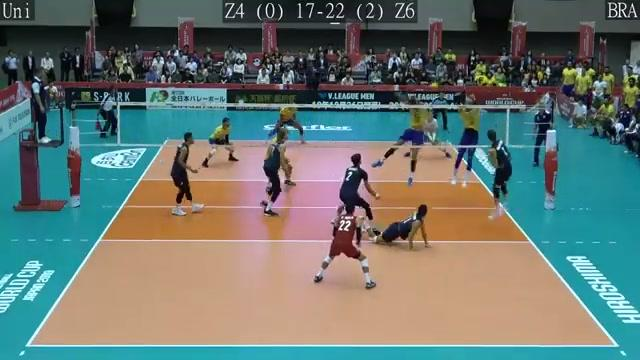ball: (427, 81, 441, 90)
